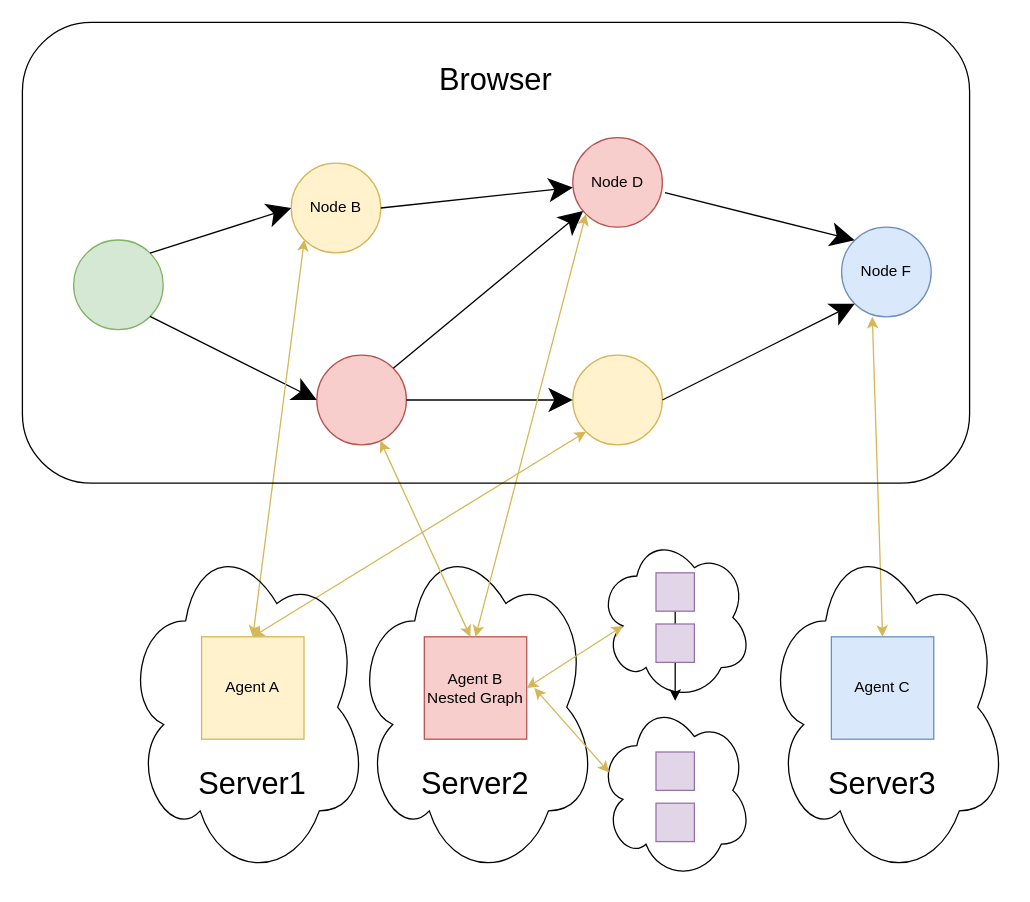
This 1030x902 diagram has some shape labels left out. Here are the shapes that lost their labels. From the top down, the centre of each, then its label:
At (x=117, y=284): "Node A".
At (x=361, y=399): "Node C".
At (x=617, y=399): "Node E".
